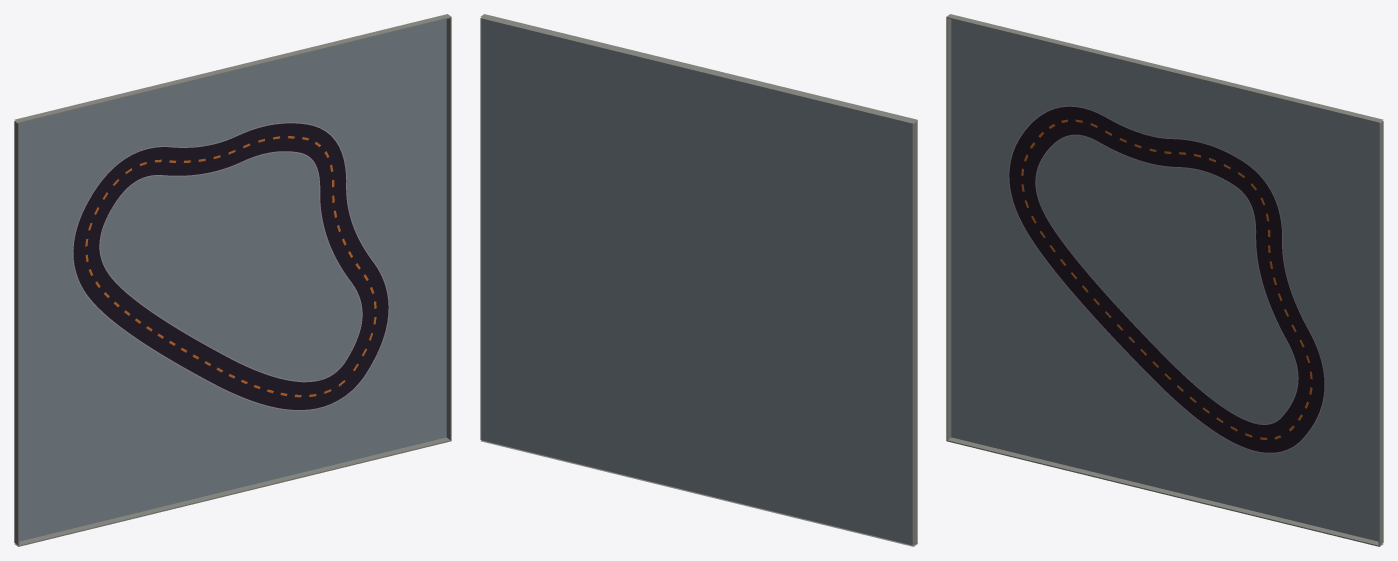
Rendered from track.obj.
3 views of the same model, side by side, from view 1: azimuth 30°, elevation 25°; view 2: azimuth 150°, elevation 25°; view 3: azimuth 330°, elevation 25° (orthographic).
Size of the model in its own units: 18.8 by 17.59 by 0.3.
5 materials, 5 textured.
